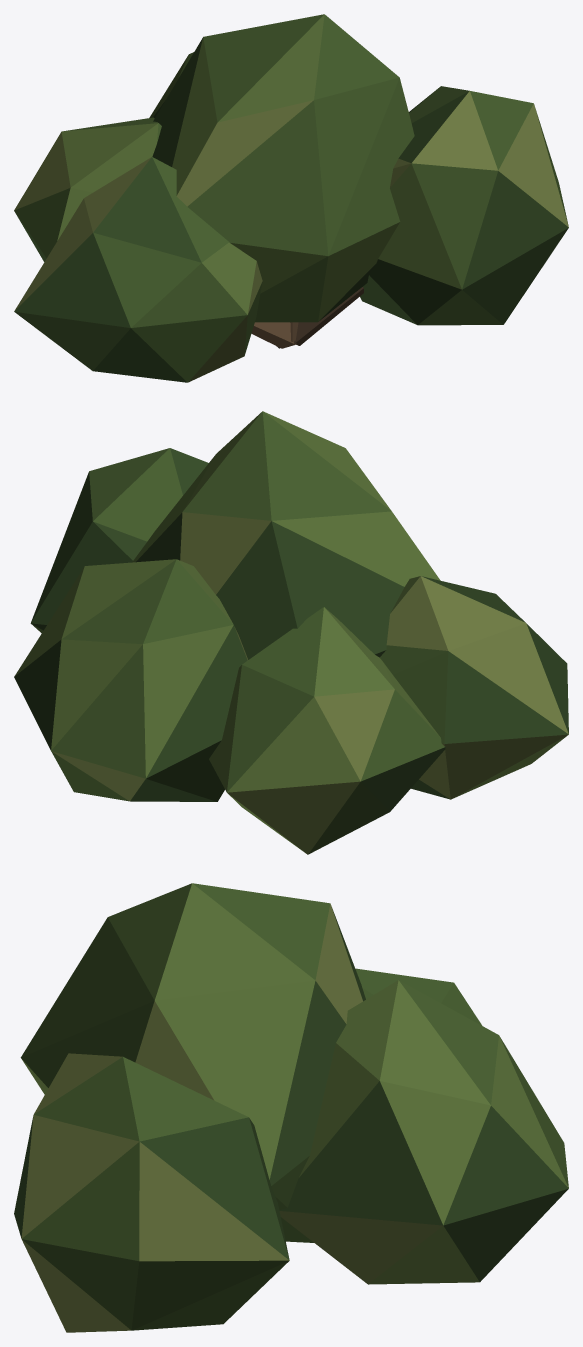
The model's file is Bush_01_Round.obj.
The picture shows the model from 3 angles, top to bottom: view 1: azimuth 30°, elevation 25°; view 2: azimuth 150°, elevation 25°; view 3: azimuth 270°, elevation 25°; orthographic projection. The views are drawn at different scales.
Parts seen in each view (by area): view 1: Bush_01_Round; view 2: Bush_01_Round; view 3: Bush_01_Round.
Part boxes in pixels (x1,y1,x2,y2): Bush_01_Round: (14,14,568,382); Bush_01_Round: (14,411,568,854); Bush_01_Round: (14,883,568,1332).
Bounding box in the file's own units: 1.7 × 1.06 × 1.3.
1 material, 1 textured.
